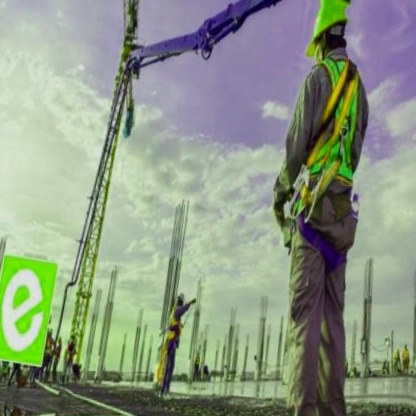vest: (268, 45, 388, 215), (158, 303, 187, 349)
white: (174, 283, 189, 301)
yellow: (301, 5, 355, 64)
